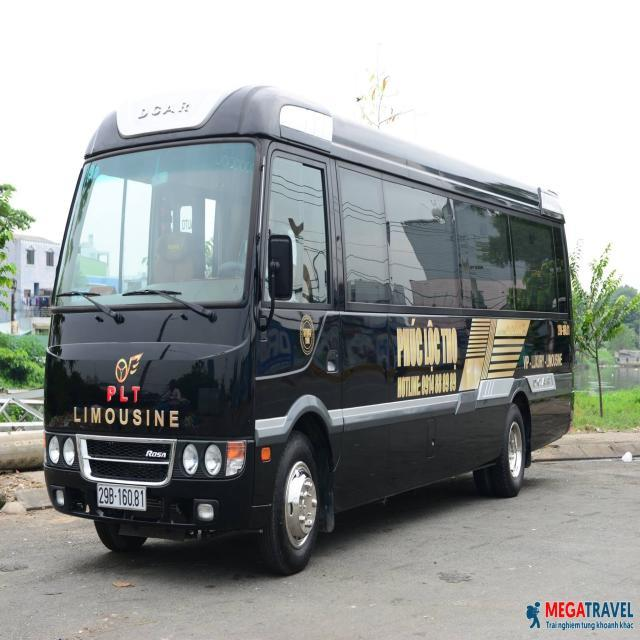car: (26, 96, 586, 571)
plate: (94, 478, 150, 515)
